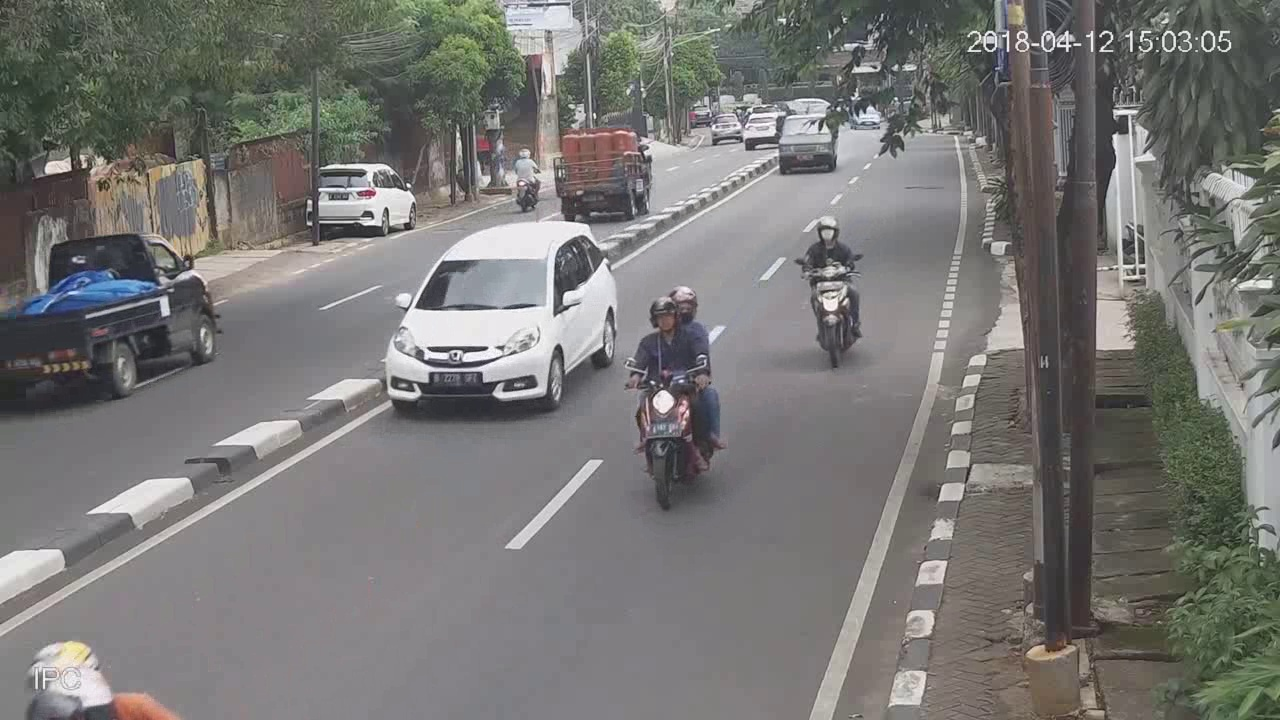car: (387, 219, 622, 414), (307, 151, 420, 245), (781, 116, 839, 175), (711, 113, 742, 144)
motorcycle: (622, 276, 723, 515), (792, 209, 868, 378), (510, 138, 545, 219)
truck: (1, 231, 225, 405), (551, 132, 654, 220)
